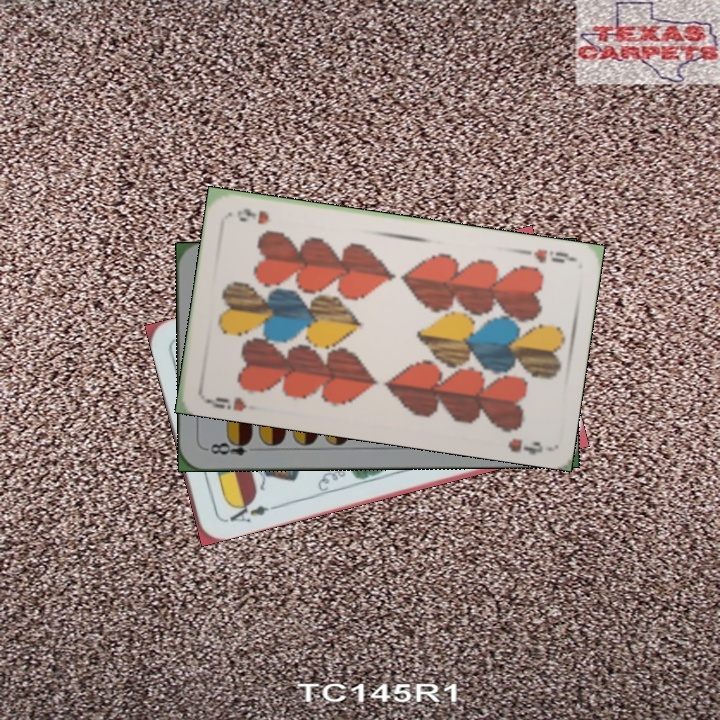E8: (203, 435, 254, 458)
EA: (220, 496, 278, 525)
H9: (202, 393, 249, 414), (530, 245, 576, 266)
